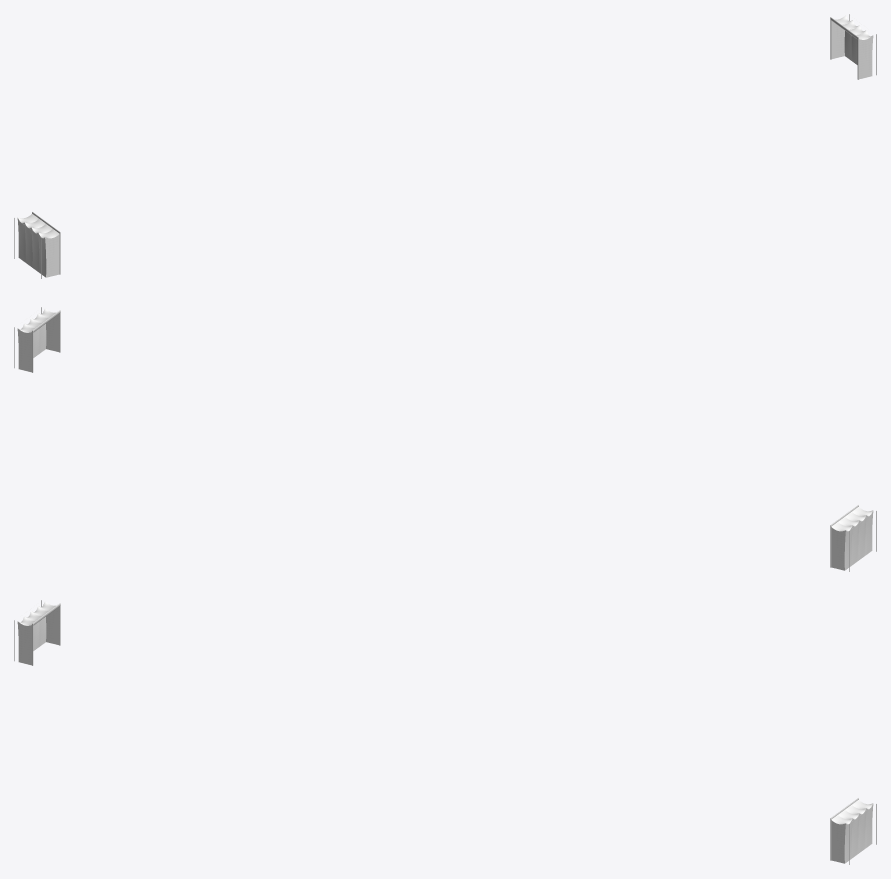
Rendered from goal.fbx.
The picture shows the model from 3 angles, top to bottom: view 1: azimuth 30°, elevation 25°; view 2: azimuth 150°, elevation 25°; view 3: azimuth 330°, elevation 25°; orthographic projection.
Parts seen in each view (by area): view 1: group2; view 2: group2; view 3: group2.
Boxes of the visible parts, x1,y1,x2,y2 form: group2: (14,14,876,278); group2: (14,307,876,571); group2: (14,600,876,864).
Size of the model in its own units: 5231 by 253 by 305.
Materials: 3 (1 with a texture image).
